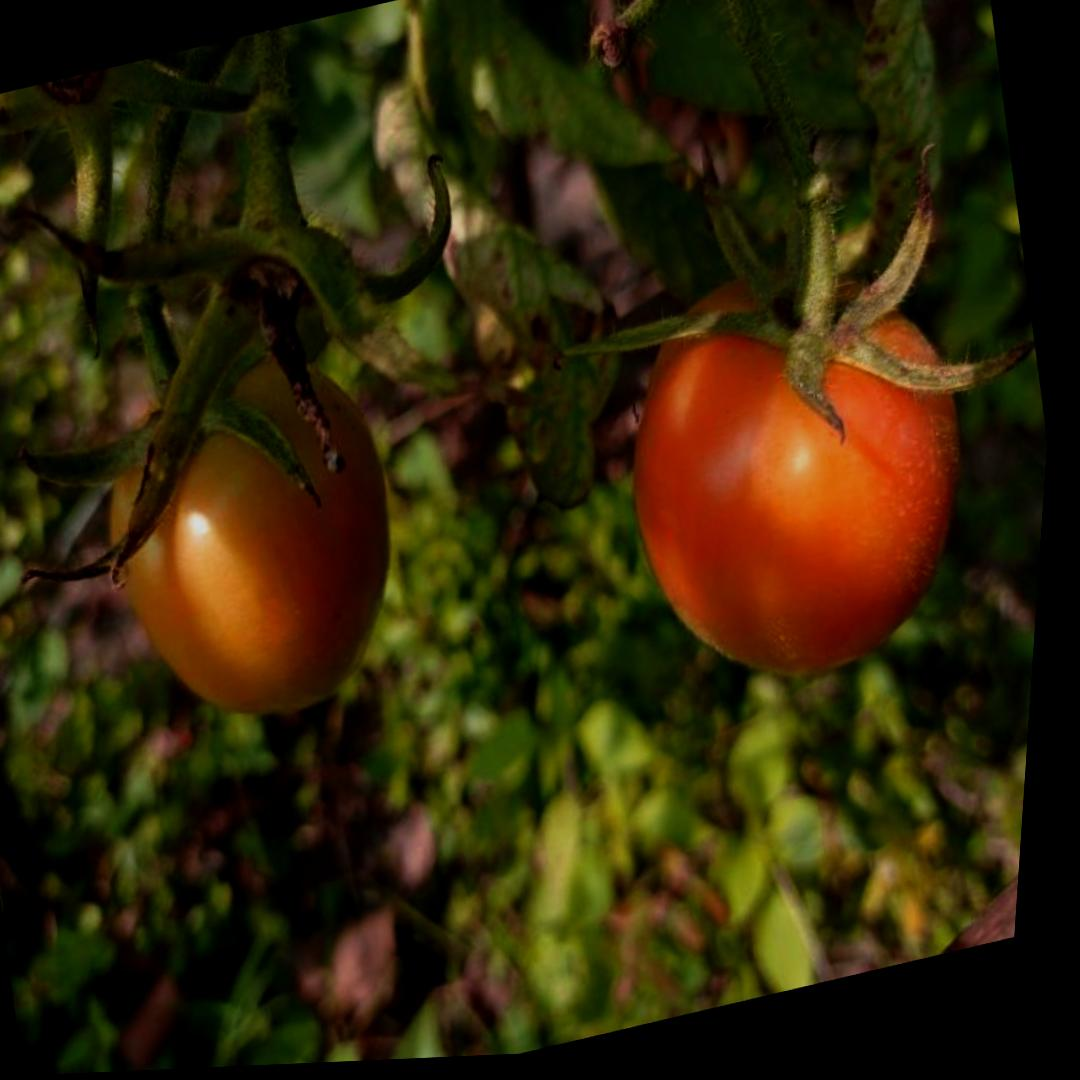setengah_matang: (579, 222, 1015, 715), (64, 316, 436, 753)
